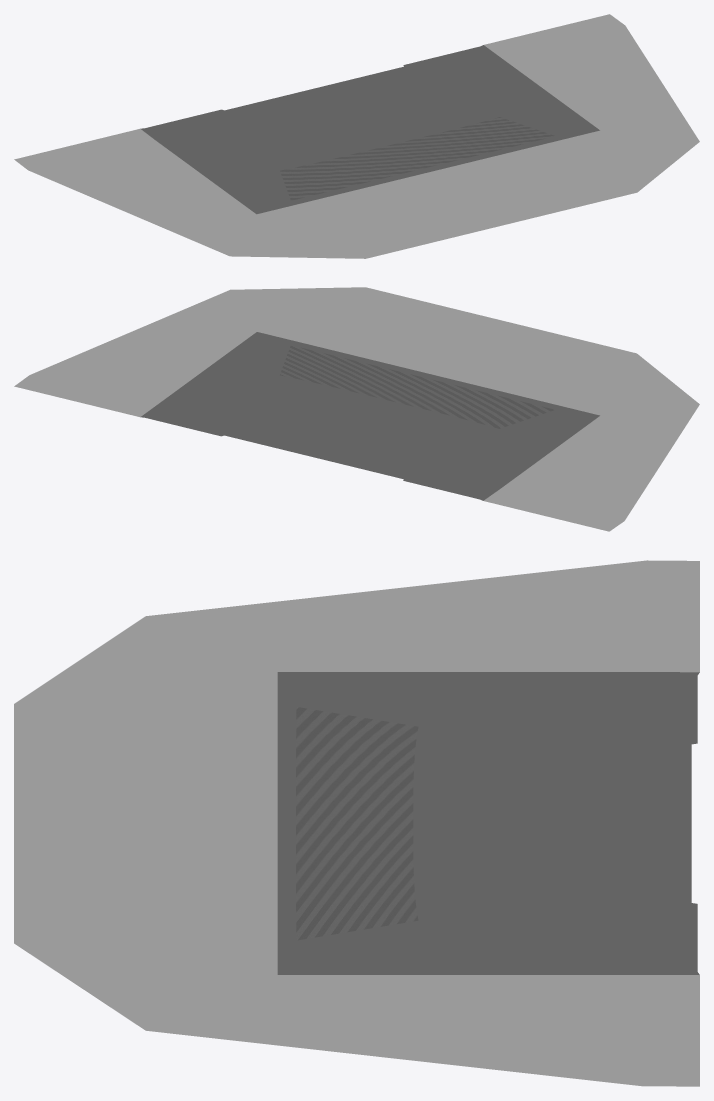
Rendered from square_turn.fbx.
3 views of the same model, one above another, from view 1: azimuth 30°, elevation 25°; view 2: azimuth 150°, elevation 25°; view 3: azimuth 270°, elevation 25° (orthographic). The views are drawn at different scales.
Parts seen in each view (by area): view 1: polySurface32, polySurface31; view 2: polySurface32, polySurface31; view 3: polySurface32, polySurface31.
Boxes of the visible parts, x1=… form: polySurface32: x1=14, y1=14, x2=699, y2=258; polySurface31: x1=140, y1=45, x2=599, y2=214; polySurface32: x1=14, y1=287, x2=699, y2=531; polySurface31: x1=140, y1=332, x2=599, y2=500; polySurface32: x1=14, y1=560, x2=699, y2=1086; polySurface31: x1=277, y1=672, x2=699, y2=974.
Bounding box in the file's own units: 14518 × 0.000671 × 8002.
